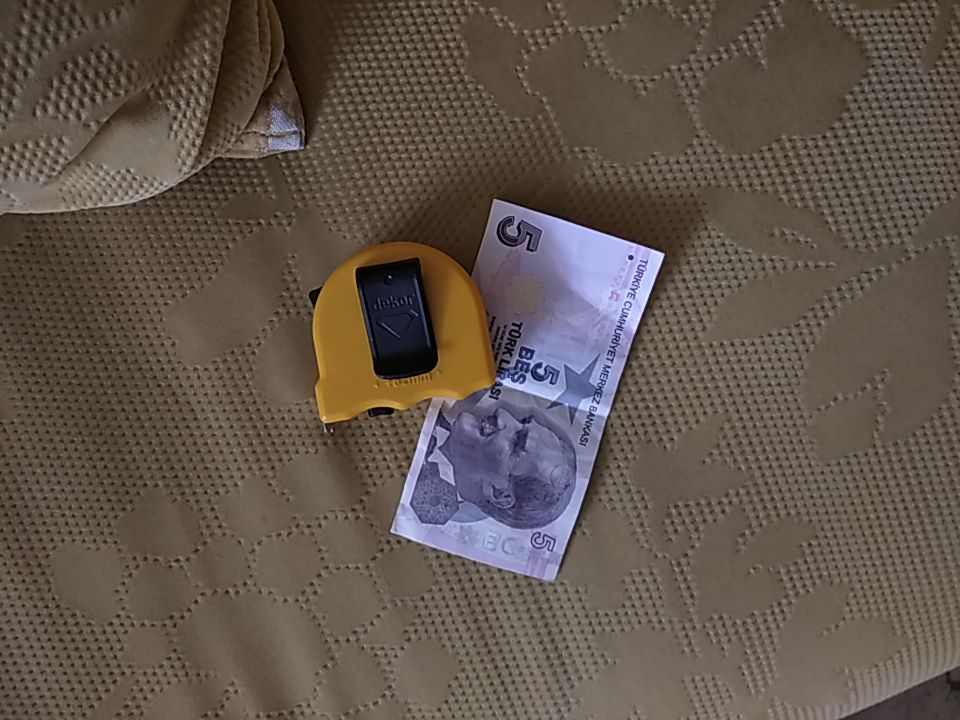5TL: (386, 196, 666, 586)
